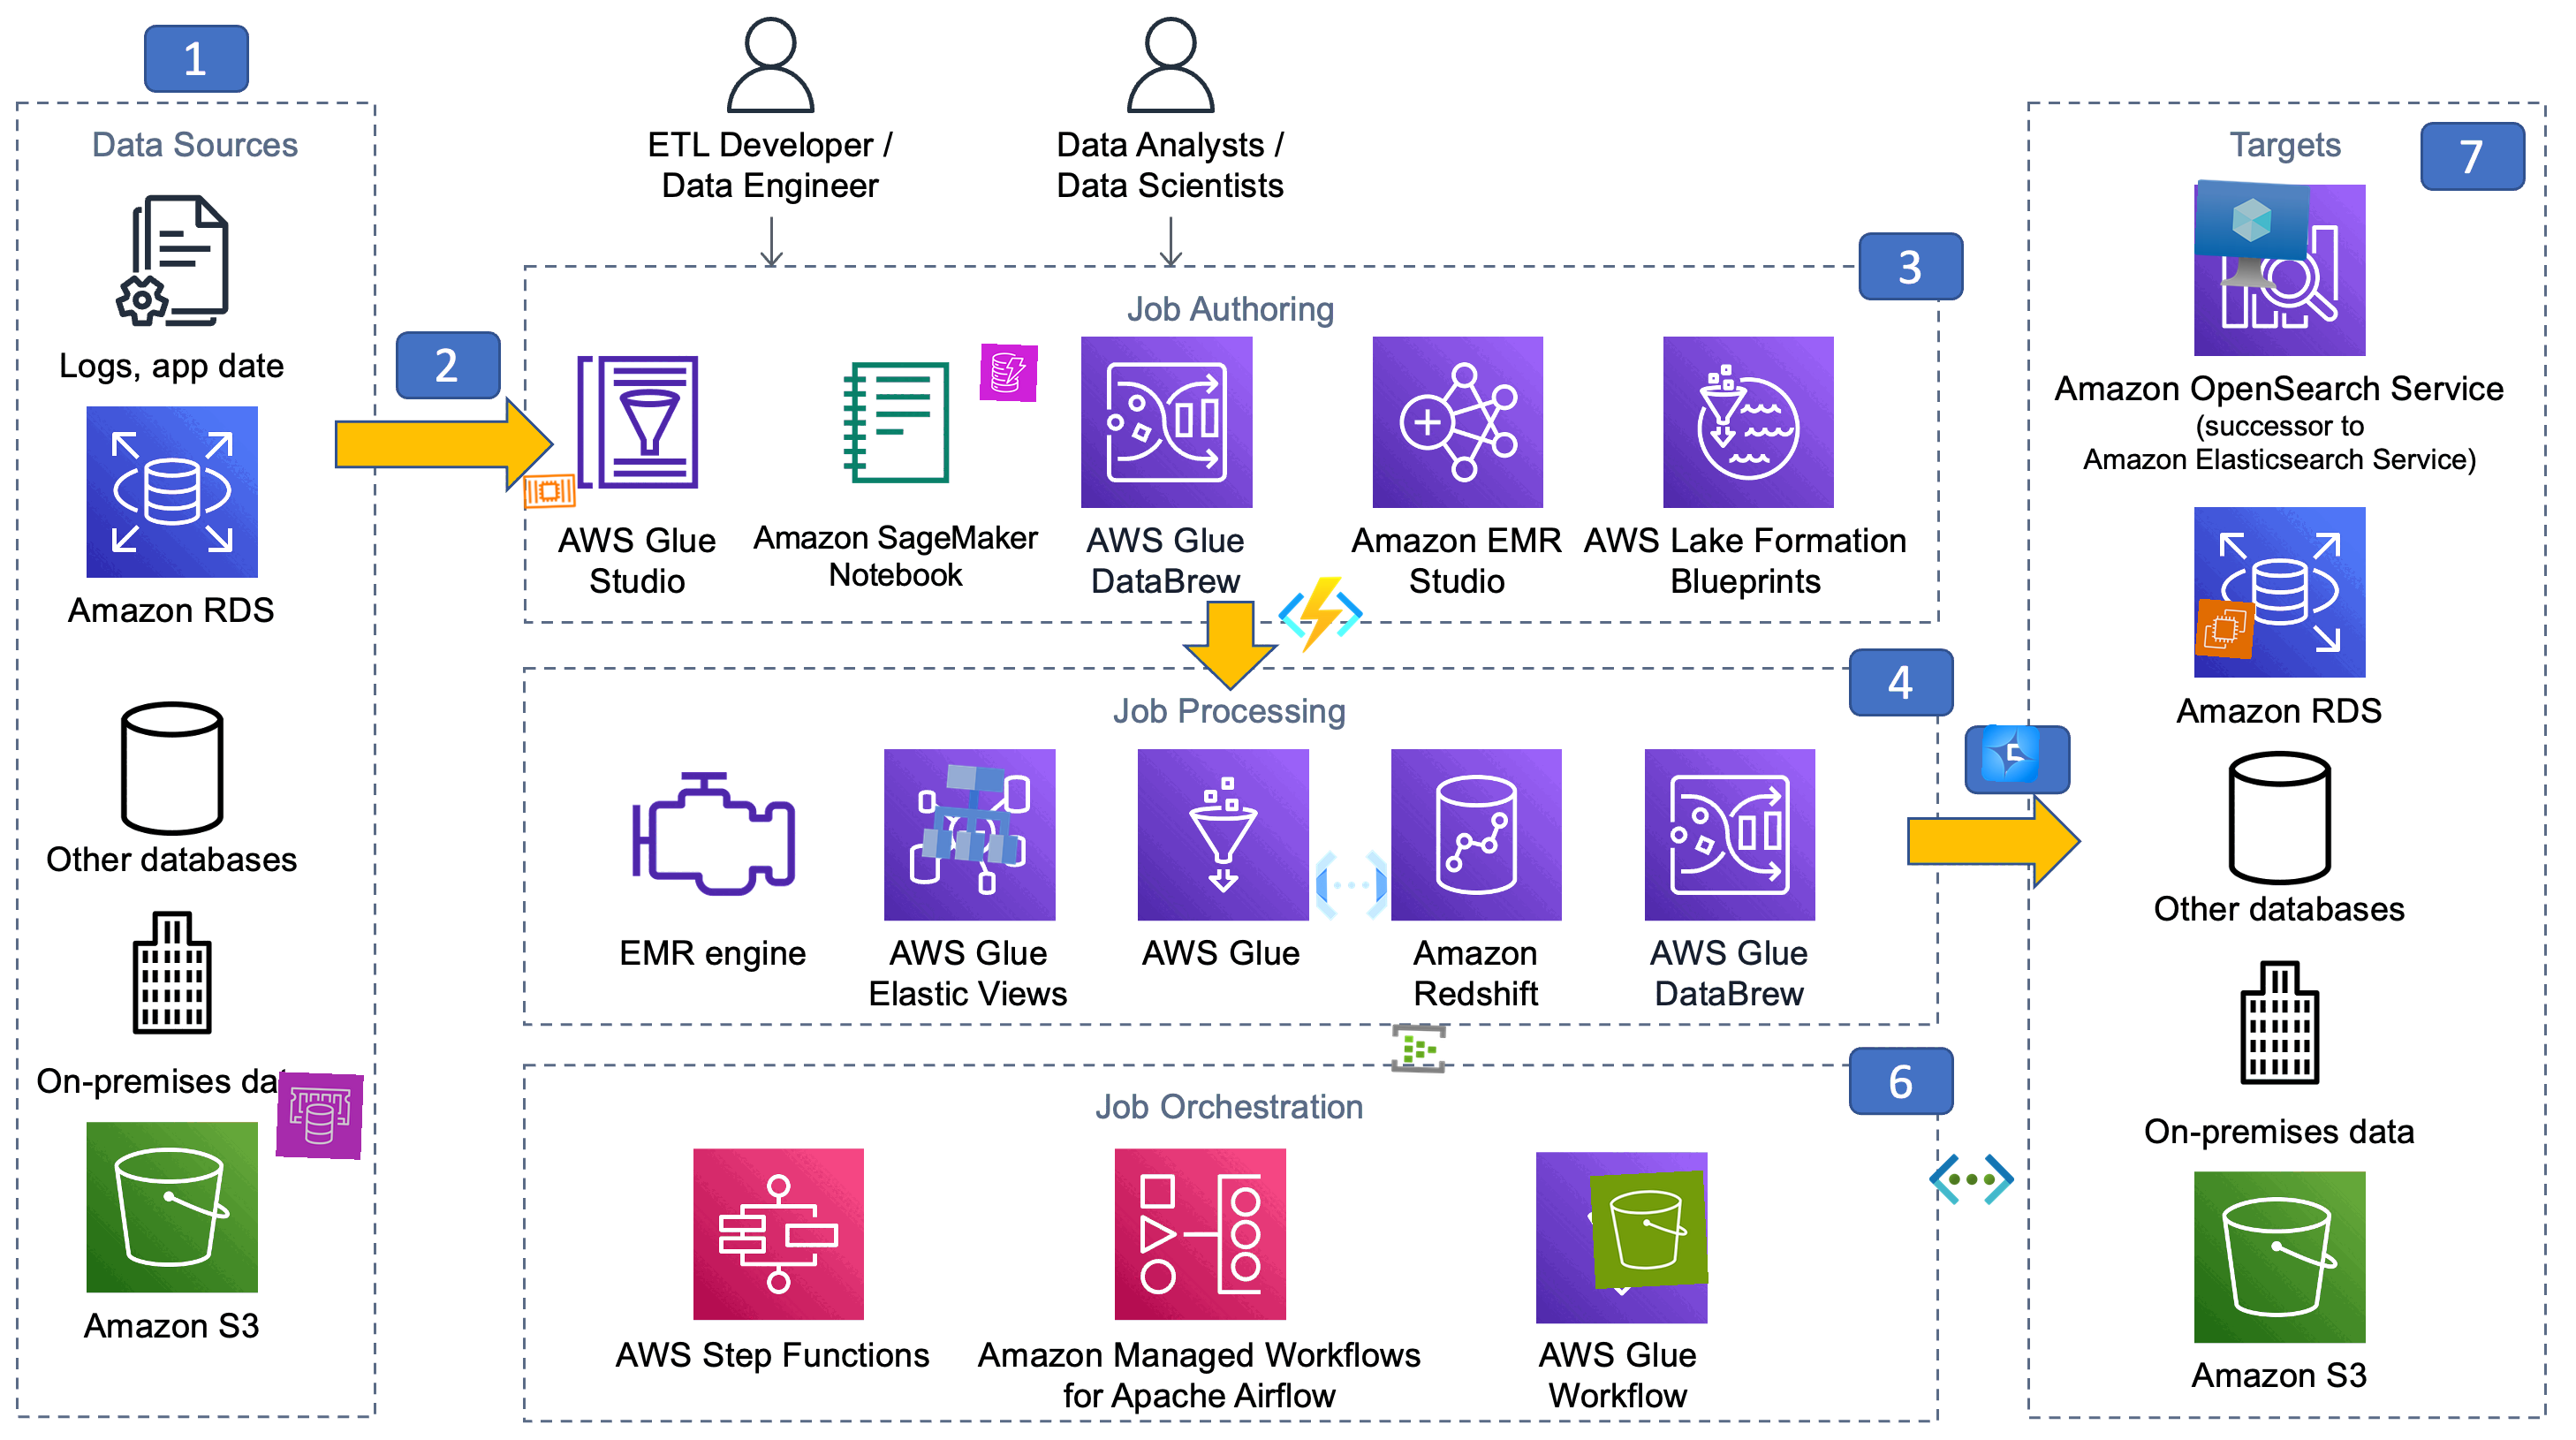aws_amazon_dynamodb: (978, 343, 1039, 403)
aws_amazon_ec2: (2194, 598, 2256, 660)
aws_amazon_elasticache: (276, 1072, 364, 1160)
aws_amazon_simple_storage_service: (1589, 1169, 1709, 1290)
aws_elastic_container_service_container_2: (520, 462, 580, 522)
azure_event_hubs: (1389, 1019, 1447, 1077)
azure_function_apps: (1277, 571, 1364, 660)
azure_openai: (1982, 724, 2040, 782)
azure_virtual_machine: (2192, 177, 2312, 297)
azure_virtual_networks: (1928, 1136, 2015, 1222)
gcp_cloud_functions: (1307, 842, 1394, 929)
gcp_cloud_load_balancing: (911, 752, 1035, 876)
